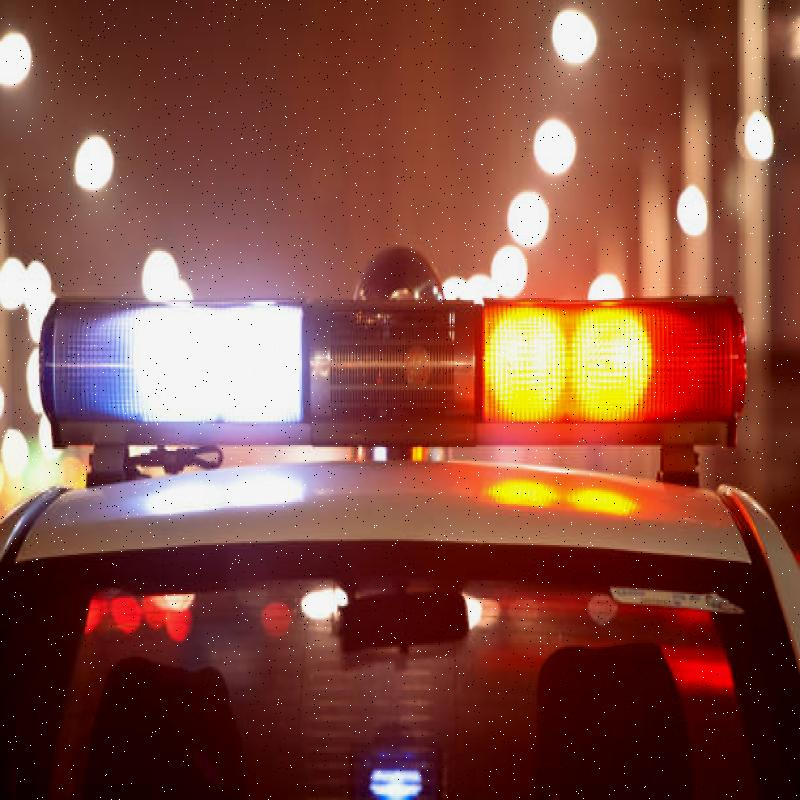AmbulanceSiren: (38, 246, 760, 456)
